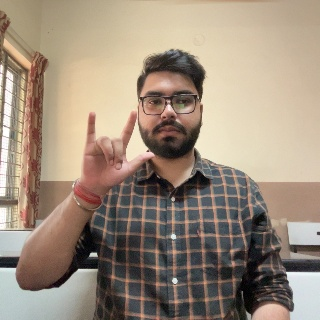I Love You: (79, 108, 154, 203)
